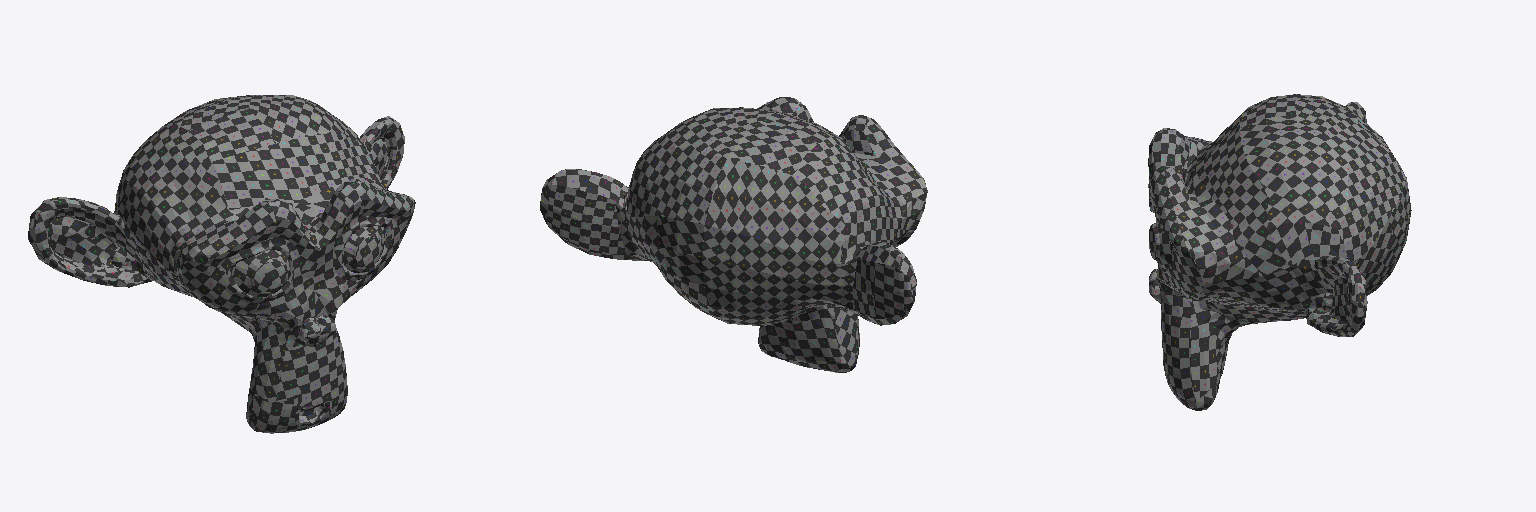
3 views of the same model, side by side, from view 1: azimuth 30°, elevation 25°; view 2: azimuth 150°, elevation 25°; view 3: azimuth 270°, elevation 25° (orthographic).
Parts seen in each view (by area): view 1: Suzanne; view 2: Suzanne; view 3: Suzanne.
Part boxes in pixels (left/top/right/bottom): Suzanne: left=28, top=95, right=415, bottom=433; Suzanne: left=540, top=97, right=927, bottom=372; Suzanne: left=1148, top=94, right=1411, bottom=410.
Size of the model in its own units: 2.67 by 1.92 by 1.63.
Materials: 1 (1 with a texture image).